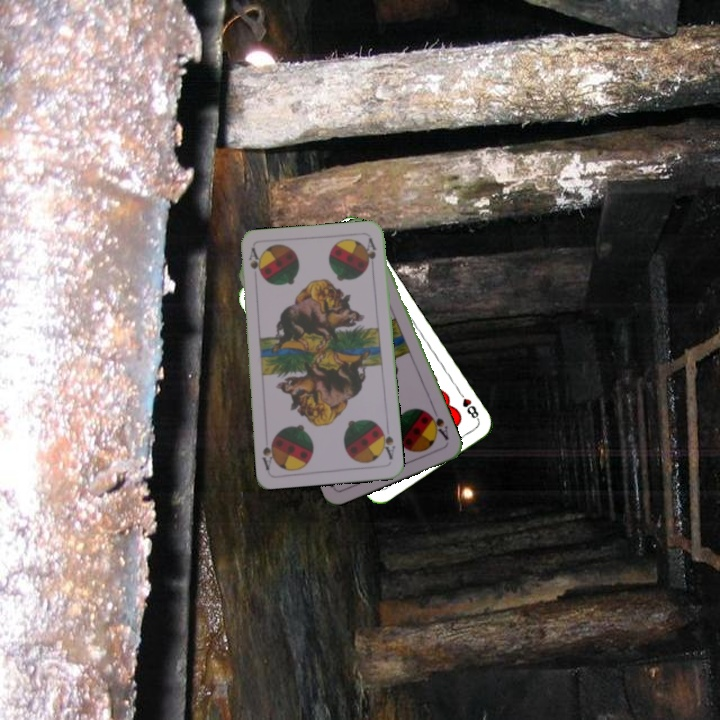H8: (454, 387, 482, 423)
SA: (424, 408, 451, 443), (376, 423, 398, 462), (245, 244, 263, 277)
